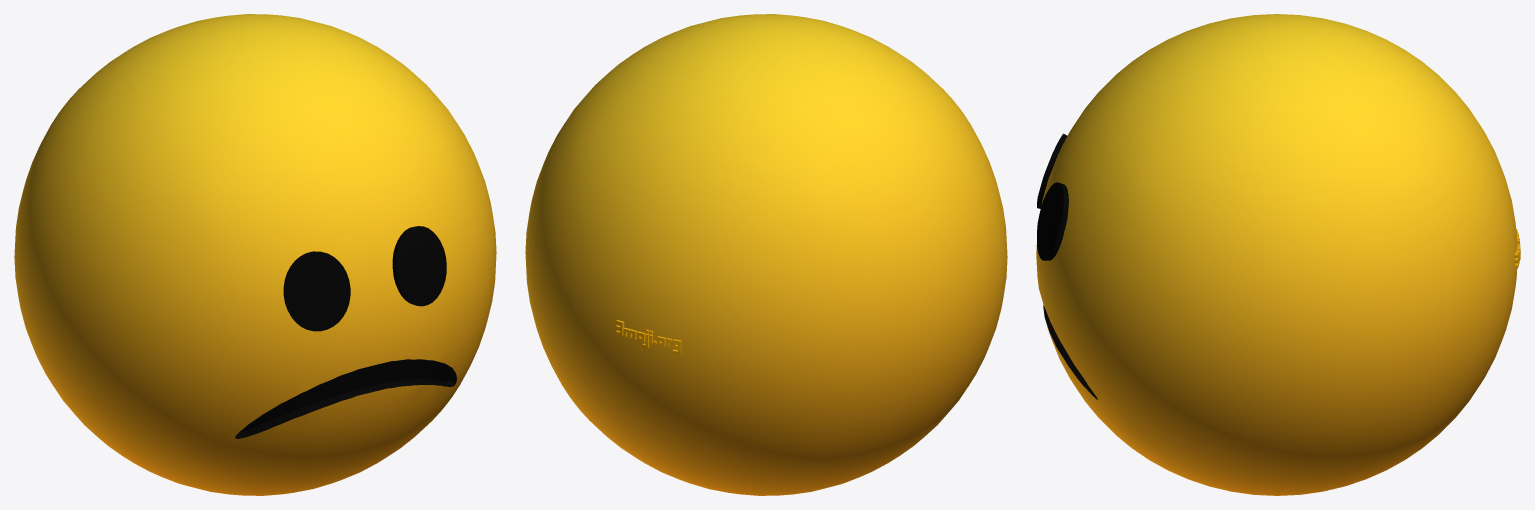
File: frowning_face.gltf
The picture shows the model from 3 angles, left to right: view 1: azimuth 30°, elevation 25°; view 2: azimuth 150°, elevation 25°; view 3: azimuth 270°, elevation 25°; orthographic projection.
Parts seen in each view (by area): view 1: Frowning Face; view 2: Frowning Face; view 3: Frowning Face.
Boxes of the visible parts, <box> form: Frowning Face: <box>14,14,496,495</box>; Frowning Face: <box>525,14,1007,495</box>; Frowning Face: <box>1036,14,1520,495</box>.
Size of the model in its own units: 1.69 by 1.69 by 1.7.
Materials: 2 (2 with a texture image).
